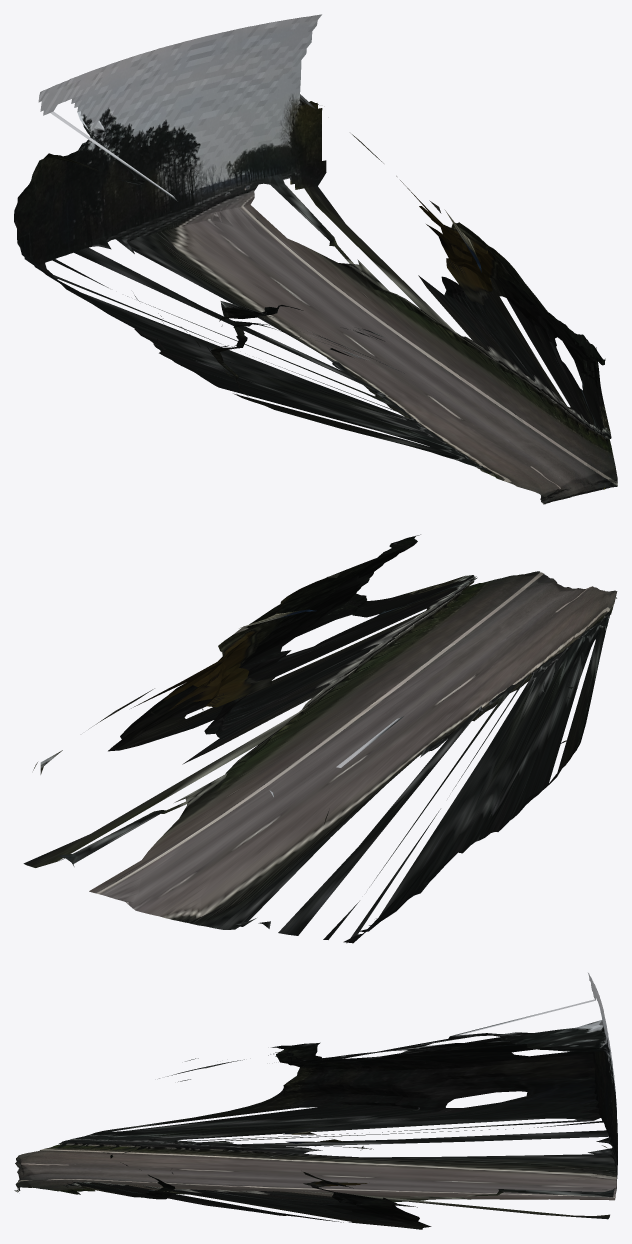
3 renders of one model, top to bottom at view 1: azimuth 30°, elevation 25°; view 2: azimuth 150°, elevation 25°; view 3: azimuth 270°, elevation 25°, orthographic. The views are drawn at different scales.
Visible parts, largest first — view 1: defaultobject; view 2: defaultobject; view 3: defaultobject.
Boxes of the visible parts, bbox=[...] form: defaultobject: bbox=[14, 14, 617, 504]; defaultobject: bbox=[23, 534, 617, 943]; defaultobject: bbox=[14, 973, 617, 1229].
Size of the model in its own units: 23.26 by 12.37 by 44.36.
1 material, 1 textured.
